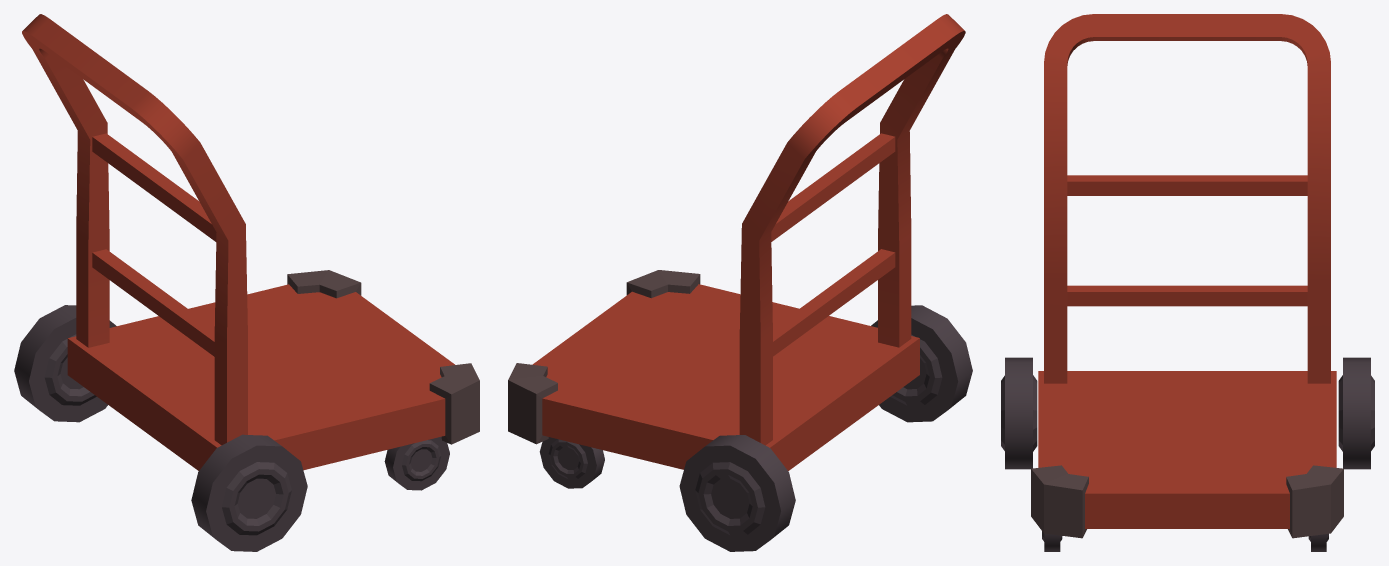
Rendered from Hand_Wagon.fbx.
3 views of the same model, side by side, from view 1: azimuth 30°, elevation 25°; view 2: azimuth 150°, elevation 25°; view 3: azimuth 270°, elevation 25° (orthographic). The views are drawn at different scales.
Parts seen in each view (by area): view 1: Hand_Wagon; view 2: Hand_Wagon; view 3: Hand_Wagon.
Part boxes in pixels (x1=…): Hand_Wagon: x1=14, y1=14, x2=479, y2=551; Hand_Wagon: x1=508, y1=14, x2=972, y2=551; Hand_Wagon: x1=1001, y1=14, x2=1374, y2=551.
Size of the model in its own units: 52.23 by 65.98 by 53.07.
